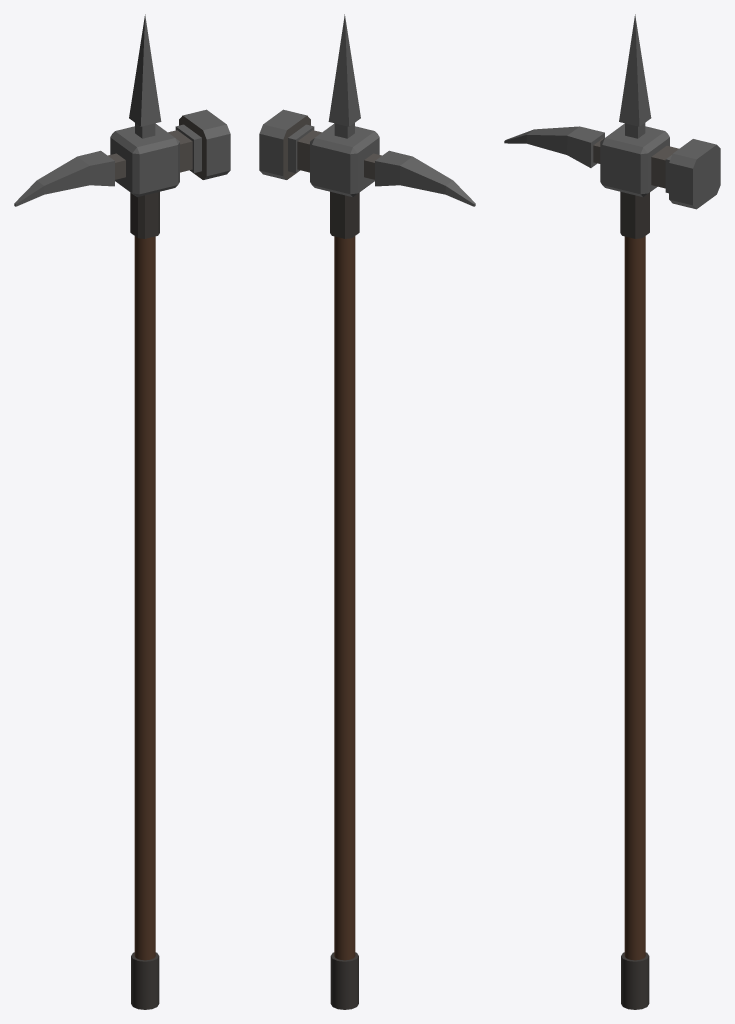
The model's file is Bec de Corbin.glb.
The picture shows the model from 3 angles, left to right: view 1: azimuth 30°, elevation 25°; view 2: azimuth 150°, elevation 25°; view 3: azimuth 330°, elevation 25°; orthographic projection.
Visible parts, largest first — view 1: Bec de Corbin; view 2: Bec de Corbin; view 3: Bec de Corbin.
Boxes of the visible parts, box(x1,y1,x2,y2) form: Bec de Corbin: box(14, 14, 230, 1009); Bec de Corbin: box(259, 14, 475, 1009); Bec de Corbin: box(504, 14, 720, 1009).
Size of the model in its own units: 0.3697 by 1.73 by 0.0876.
Materials: 1 (1 with a texture image).
